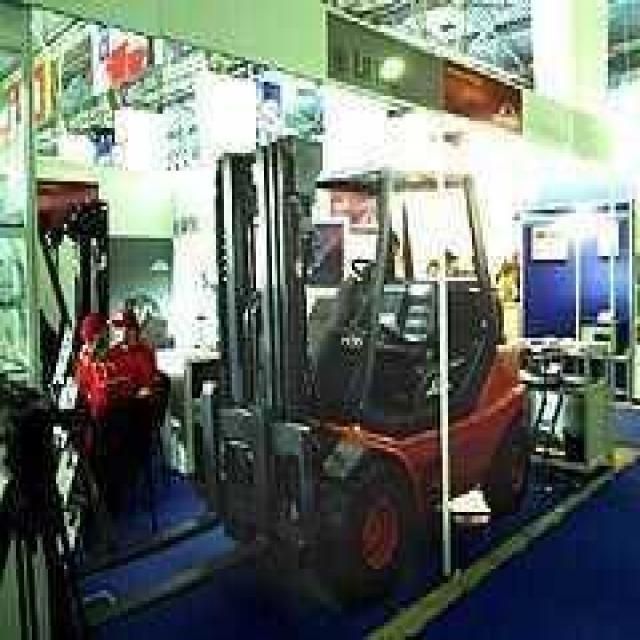Chariot elevateur: (72, 135, 533, 629)
